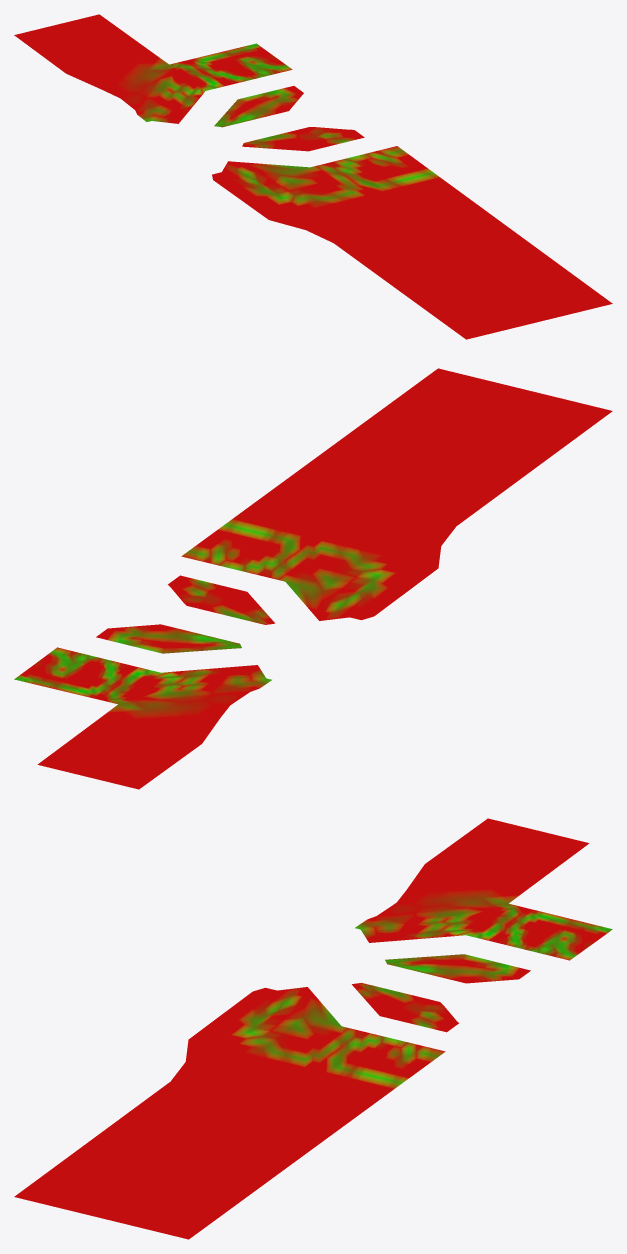
Rendered from pref_sm_4v4_city_hunt01_terrain03a_snow_lv3.fbx.
The picture shows the model from 3 angles, top to bottom: view 1: azimuth 30°, elevation 25°; view 2: azimuth 150°, elevation 25°; view 3: azimuth 330°, elevation 25°; orthographic projection. The views are drawn at different scales.
Visible parts, largest first — view 1: pref_sm_4v4_city_hunt01_terrain03a_snow_lv3; view 2: pref_sm_4v4_city_hunt01_terrain03a_snow_lv3; view 3: pref_sm_4v4_city_hunt01_terrain03a_snow_lv3.
Part boxes in pixels (box(x1,y1,x2,y2)): pref_sm_4v4_city_hunt01_terrain03a_snow_lv3: box(14, 14, 612, 339); pref_sm_4v4_city_hunt01_terrain03a_snow_lv3: box(14, 368, 612, 789); pref_sm_4v4_city_hunt01_terrain03a_snow_lv3: box(14, 818, 612, 1239).
Size of the model in its own units: 29.7 by 0.0634 by 125.
